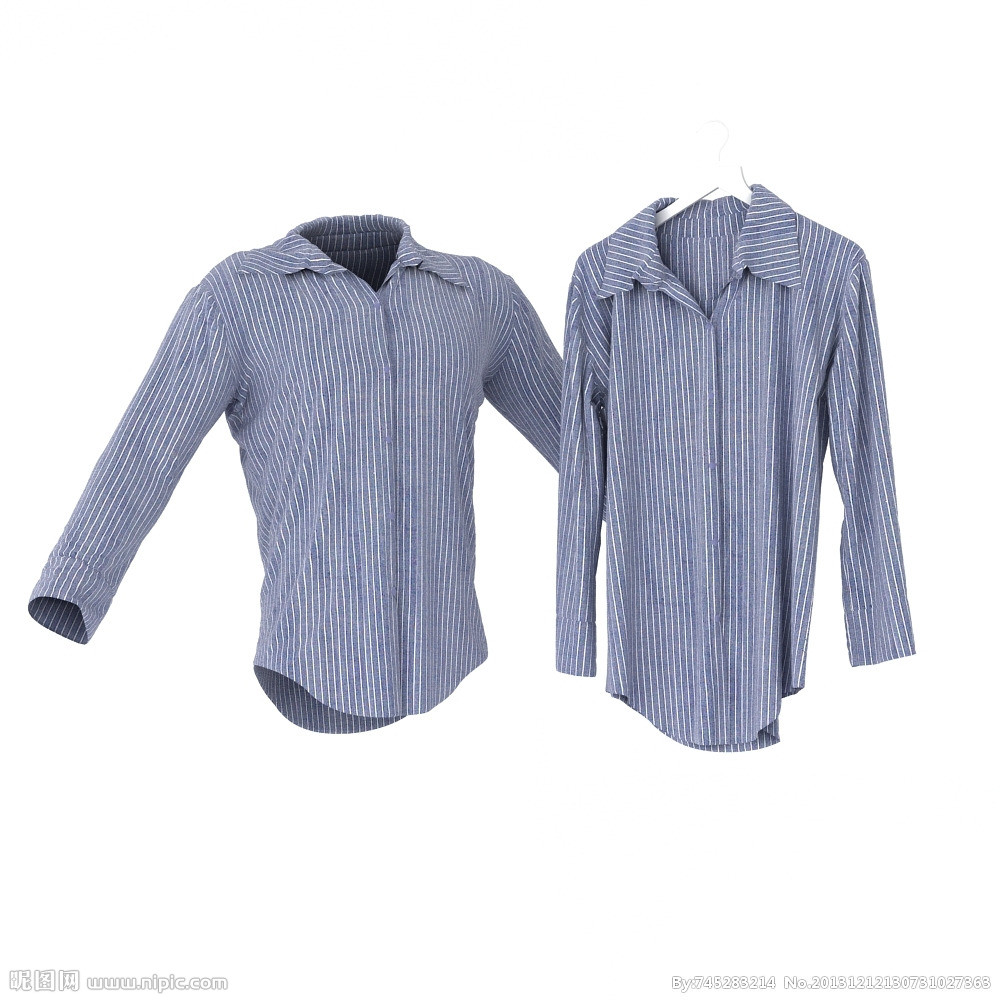flexible: (33, 217, 558, 728), (562, 188, 920, 752)
